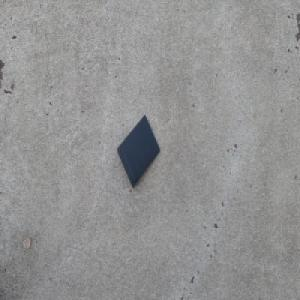PlasticPart: (116, 114, 160, 189)
